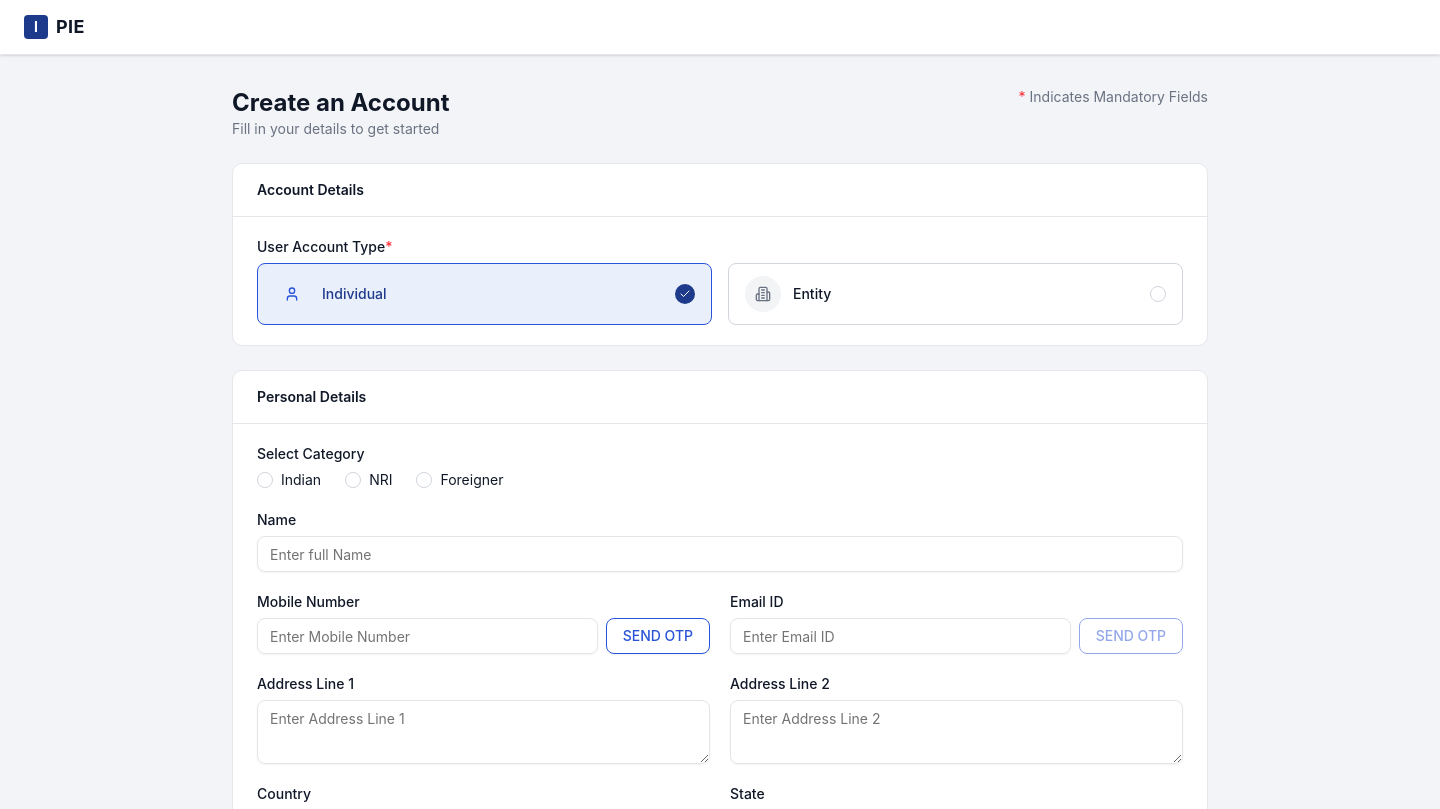
Test: RegisterPage › filters Professional Roles to the curated Entity subset when Entity is selected
Click the button "Entity".
click(763, 294)  # box [728,263,1183,325]
(page scrolled)
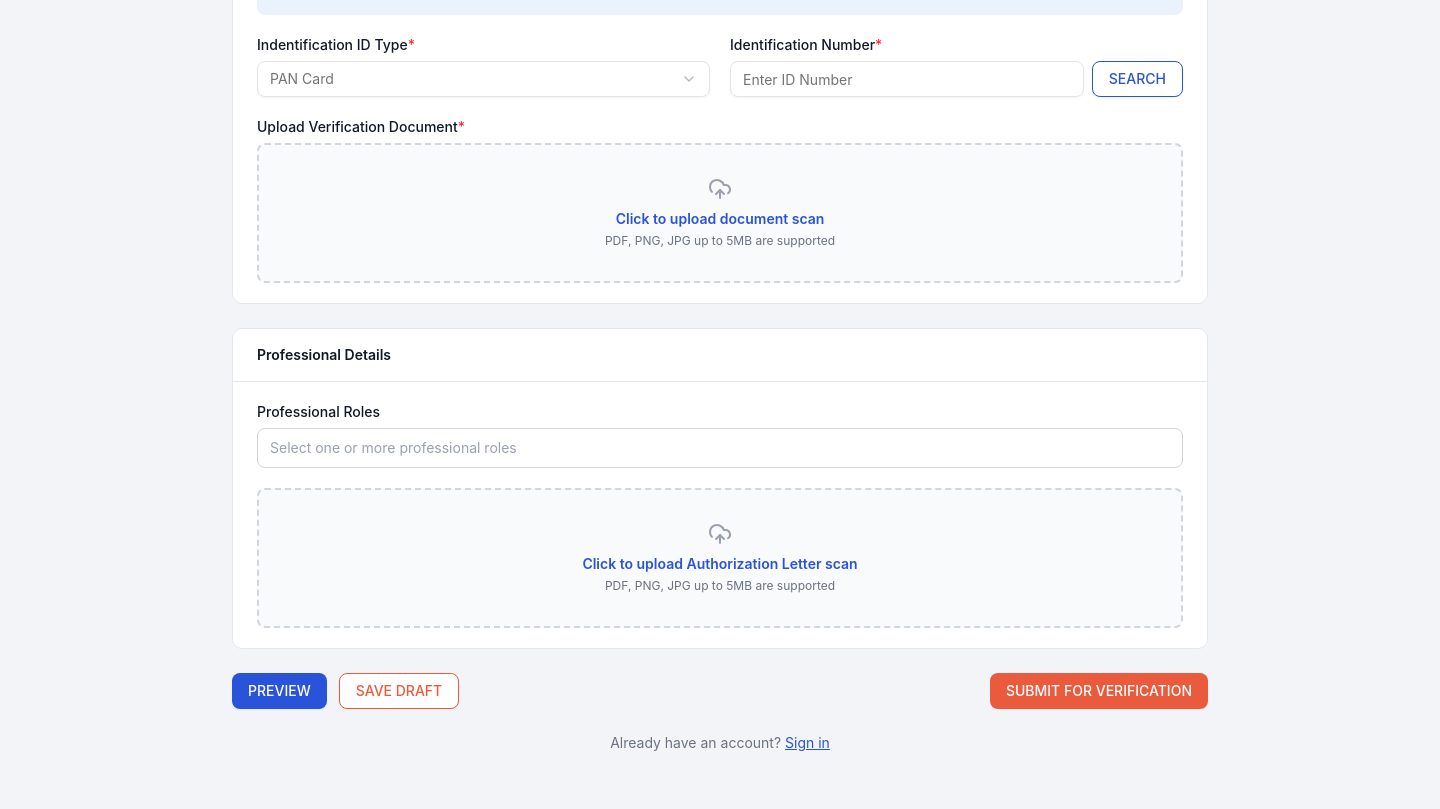
Click the button "Select one or more professional roles".
click(393, 448)  # box [257,428,1183,468]
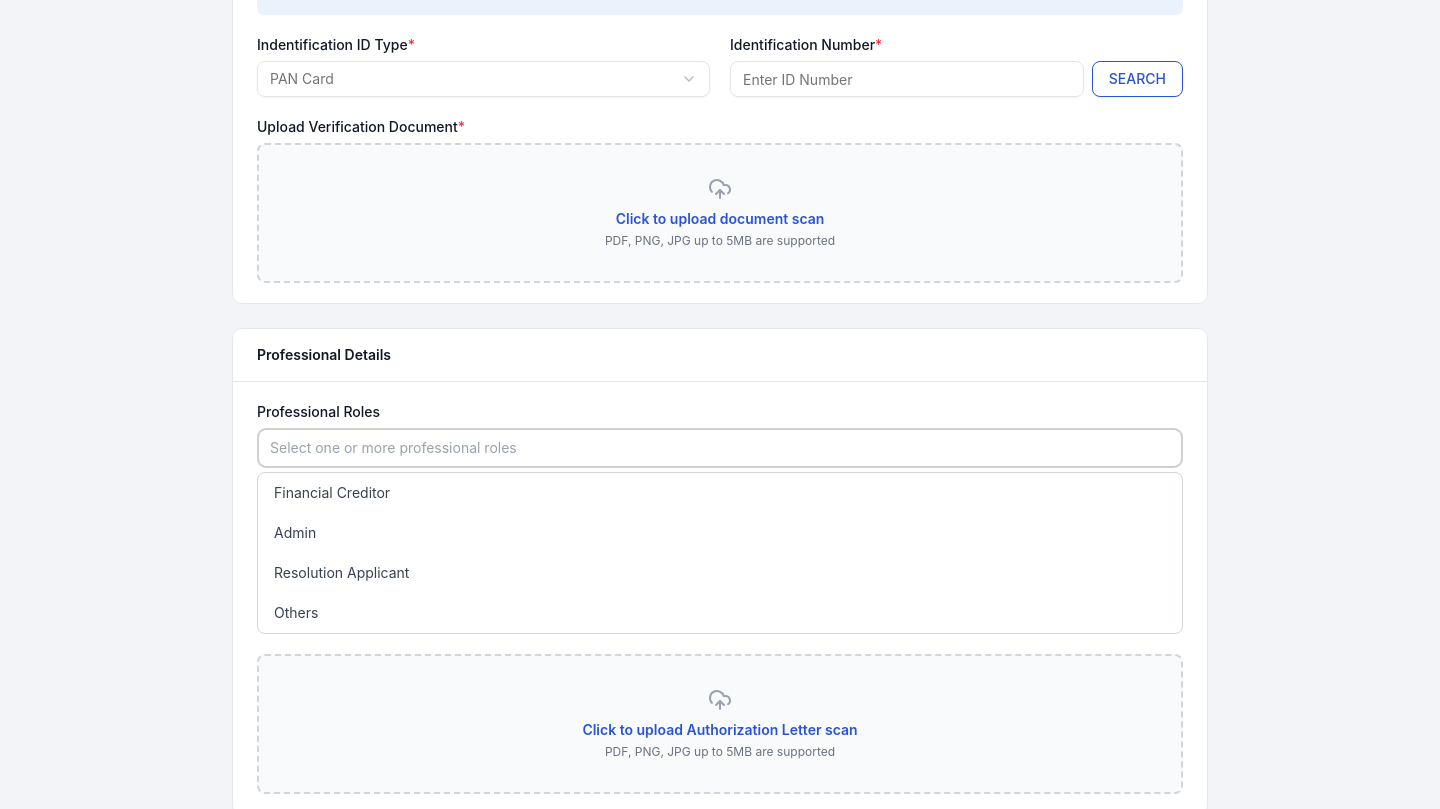
Now the button "Admin" is shown, box [258,513,1182,553]
